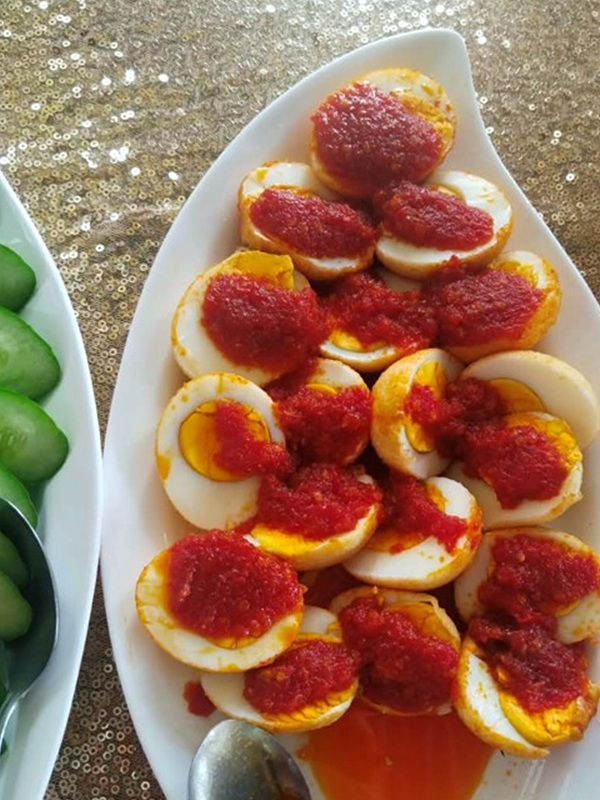Telur Balado: (154, 195, 594, 765)
